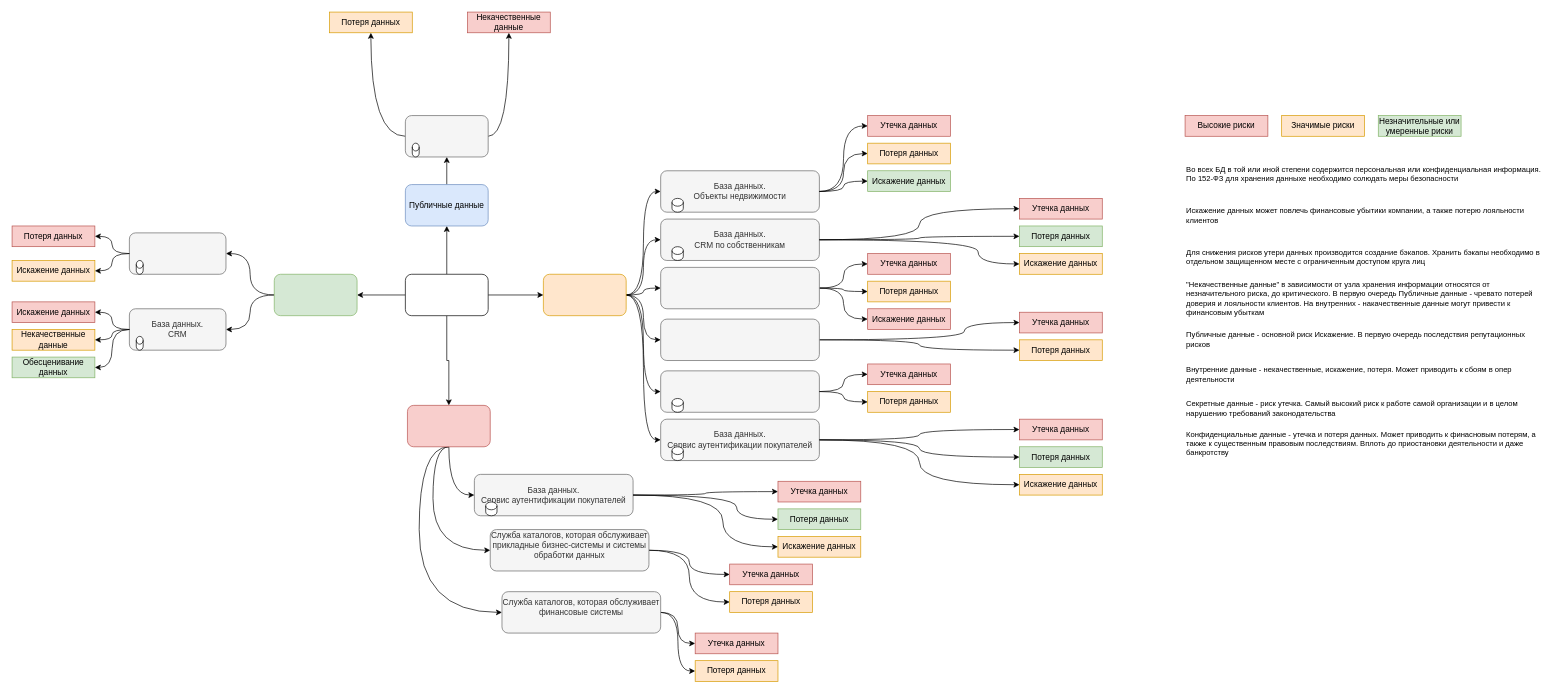
The diagram is 1556 pixels wide and 693 high, and some of its shapes have lost their labels. The shapes that lost their labels are listed below. From the top down, each one's box as (x1, y1, x2, y2) in pixels, then its label:
(405, 115, 488, 157): База данных Проведение онлайн туров.
(129, 232, 226, 274): База данных. Хранение информации об обектах недвижимости
(274, 274, 357, 316): Внутренние данные
(405, 274, 488, 316): Поверочный лист
(543, 274, 626, 316): Конфиденциальные данные
(660, 267, 819, 309): Единое хранилище данных для всей системы компании
(660, 318, 819, 361): Физическое хранилище данных DWH
(660, 370, 819, 412): База данных. Услуги ЖКХ по собственникам
(407, 405, 490, 447): Секретные данные
